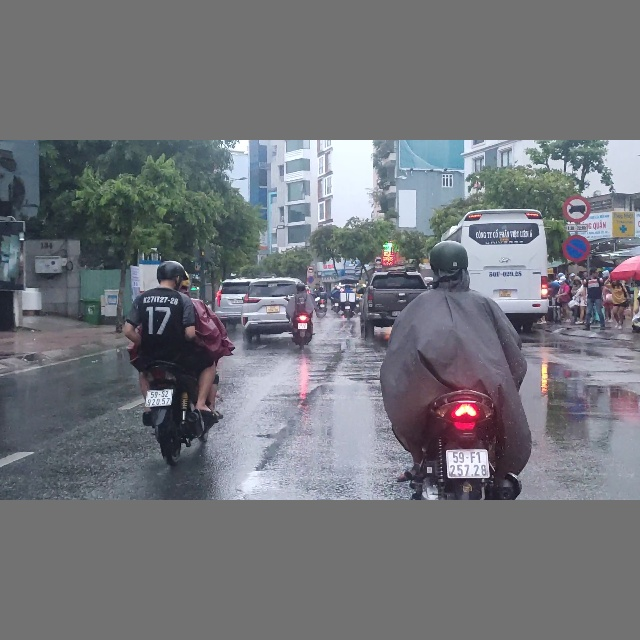P.106a*Xe tai: (562, 195, 591, 223), (374, 255, 383, 265), (308, 266, 314, 273)
P.131a: (562, 232, 591, 263), (308, 276, 314, 283)
